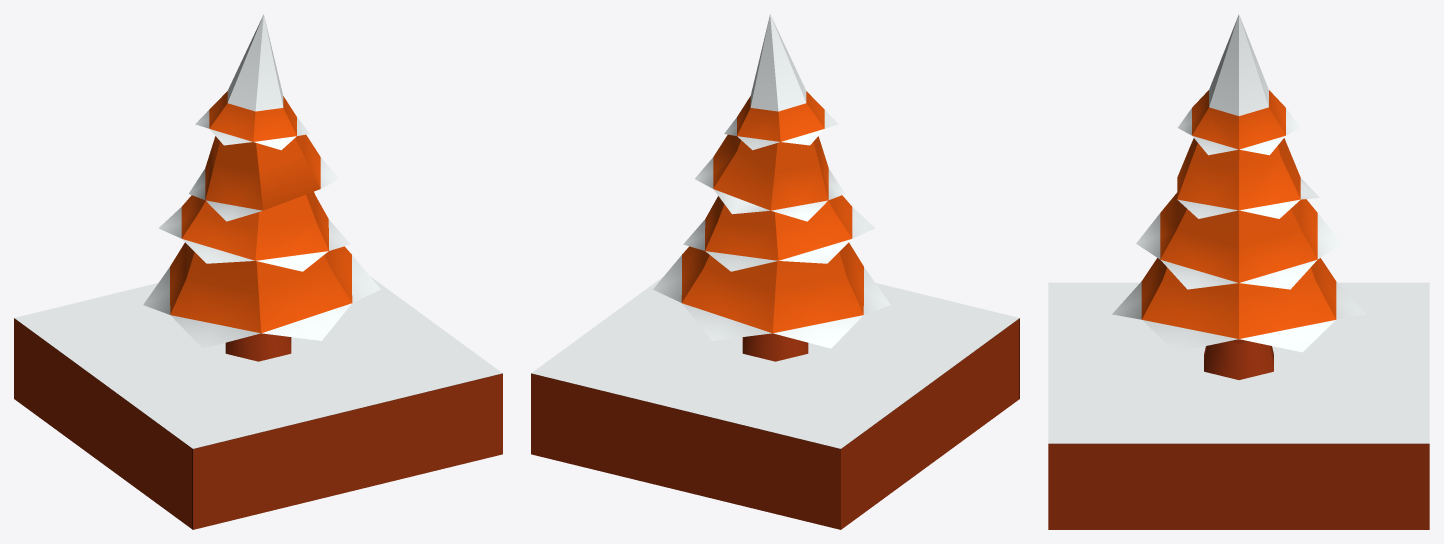
The model's file is S_pineAutumn.fbx.
3 renders of one model, left to right at view 1: azimuth 30°, elevation 25°; view 2: azimuth 150°, elevation 25°; view 3: azimuth 270°, elevation 25°, orthographic. The views are drawn at different scales.
Parts seen in each view (by area): view 1: pineAutumn; view 2: pineAutumn; view 3: pineAutumn.
Boxes of the visible parts, left/top/right/bottom form: pineAutumn: left=14, top=14, right=502, bottom=529; pineAutumn: left=531, top=14, right=1019, bottom=529; pineAutumn: left=1048, top=14, right=1429, bottom=529.
Size of the model in its own units: 200 by 254 by 200.
Materials: 1 (1 with a texture image).
